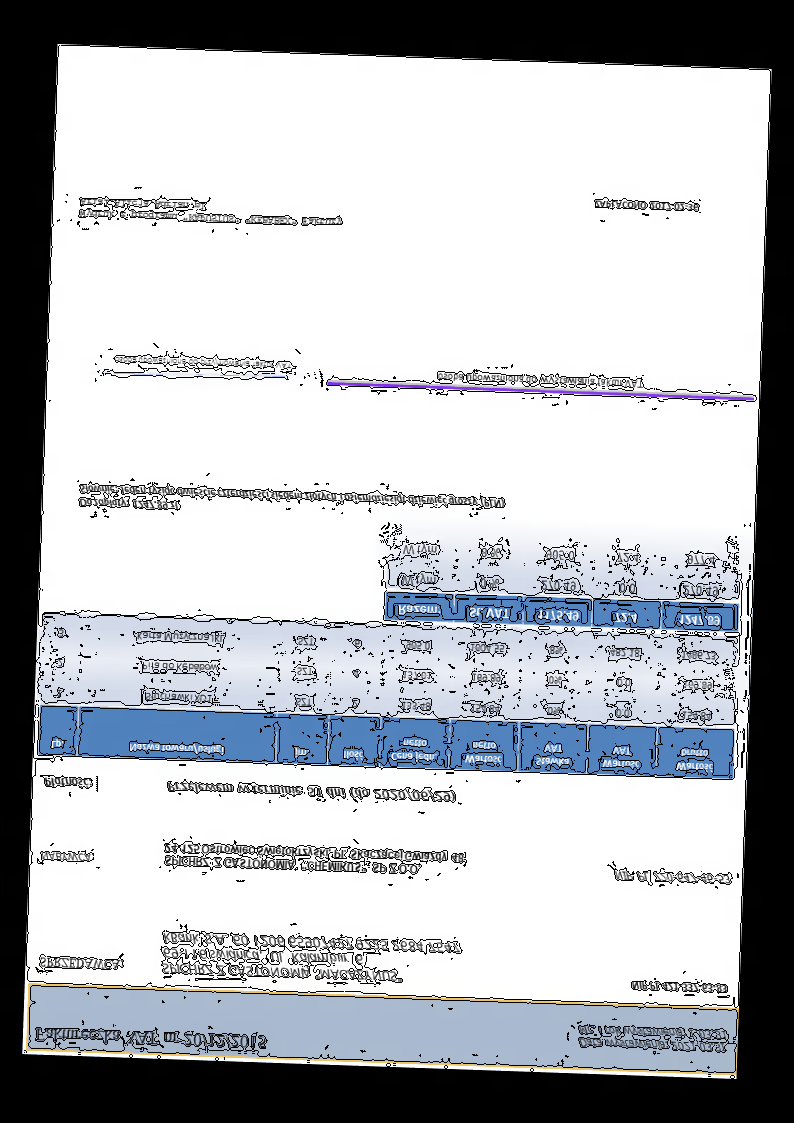Table: (36, 613, 738, 781), (383, 527, 743, 633)
TextBox: (76, 480, 506, 525), (157, 927, 463, 987), (160, 838, 466, 880), (76, 196, 345, 229), (166, 780, 457, 804), (33, 1025, 268, 1053), (576, 1021, 729, 1056), (435, 369, 646, 391), (113, 354, 293, 373), (612, 868, 732, 887), (629, 978, 730, 998), (591, 198, 700, 215), (36, 953, 126, 973), (39, 849, 96, 865), (41, 775, 93, 792)
